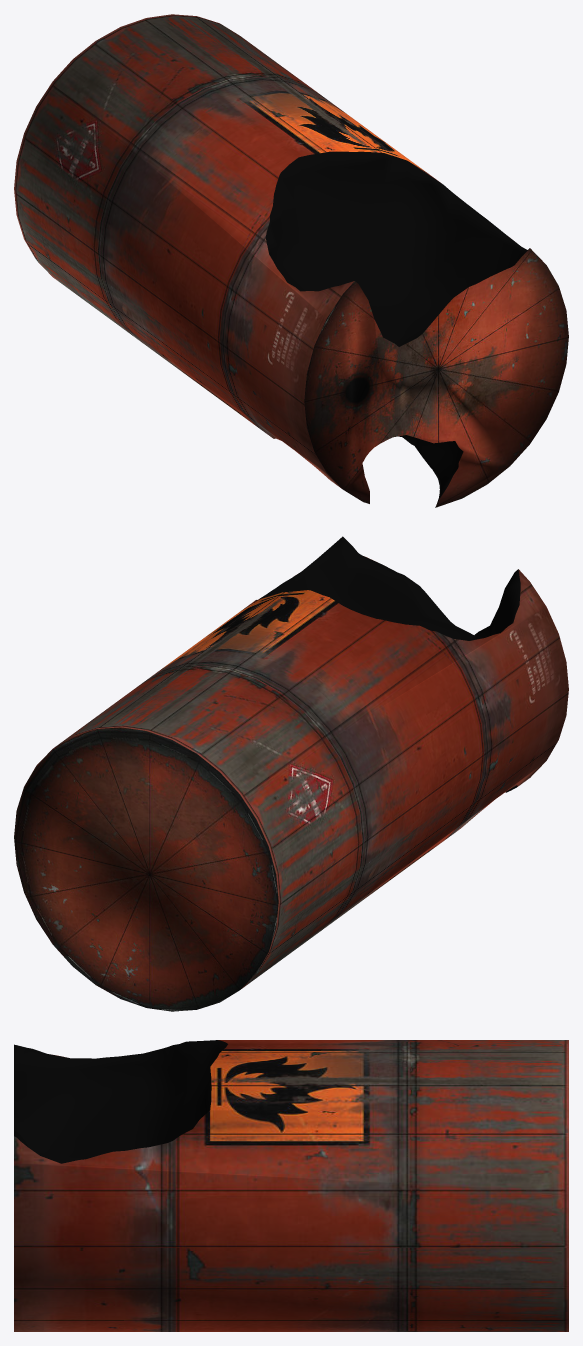
File: oilLeakBarrel.gltf
3 views of the same model, one above another, from view 1: azimuth 30°, elevation 25°; view 2: azimuth 150°, elevation 25°; view 3: azimuth 270°, elevation 25° (orthographic). The views are drawn at different scales.
Visible parts, largest first — view 1: Cylinder; view 2: Cylinder; view 3: Cylinder.
Part boxes in pixels (left/top/right/bottom): Cylinder: left=14, top=14, right=568, bottom=507; Cylinder: left=14, top=536, right=568, bottom=1011; Cylinder: left=14, top=1040, right=568, bottom=1331.
Bounding box in the file's own units: 0.658 × 0.658 × 1.25.
Materials: 2 (1 with a texture image).
